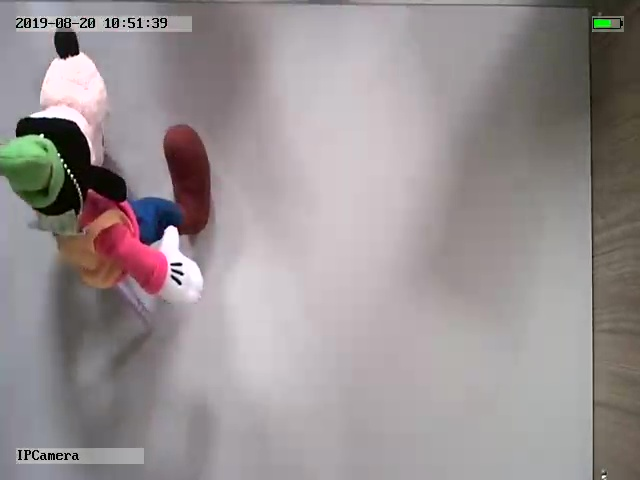goofy: (1, 25, 210, 305)
